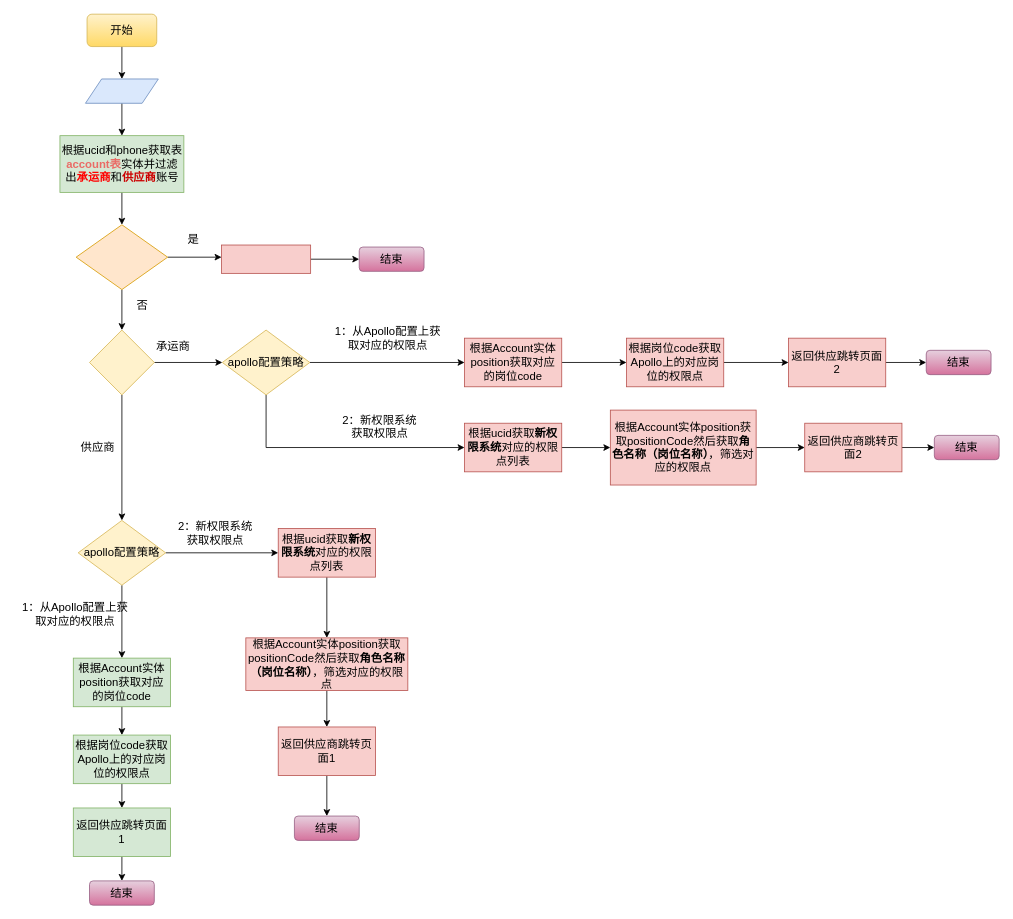
Some shapes in this 1013 by 919 pixel diagram are drawn without their labels. The centre of each missing label's shape, as x and y in pixels:
ucid: pixel 121 90
供应商还是承运商: pixel 121 362
账号是否有多个渠道: pixel 121 257
返回0：默认页面（无操作权限）: pixel 266 258
